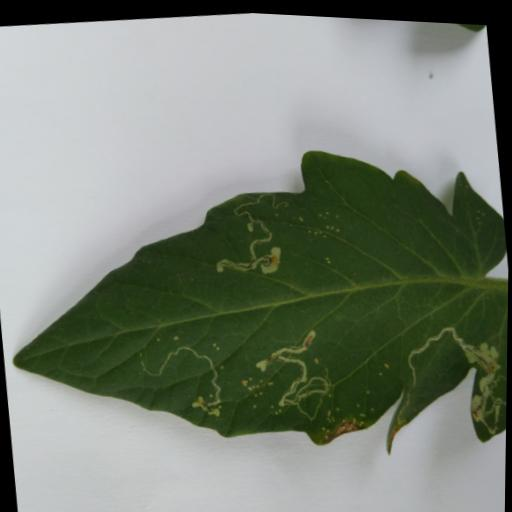Leaf_Miner: (0, 111, 511, 487)
